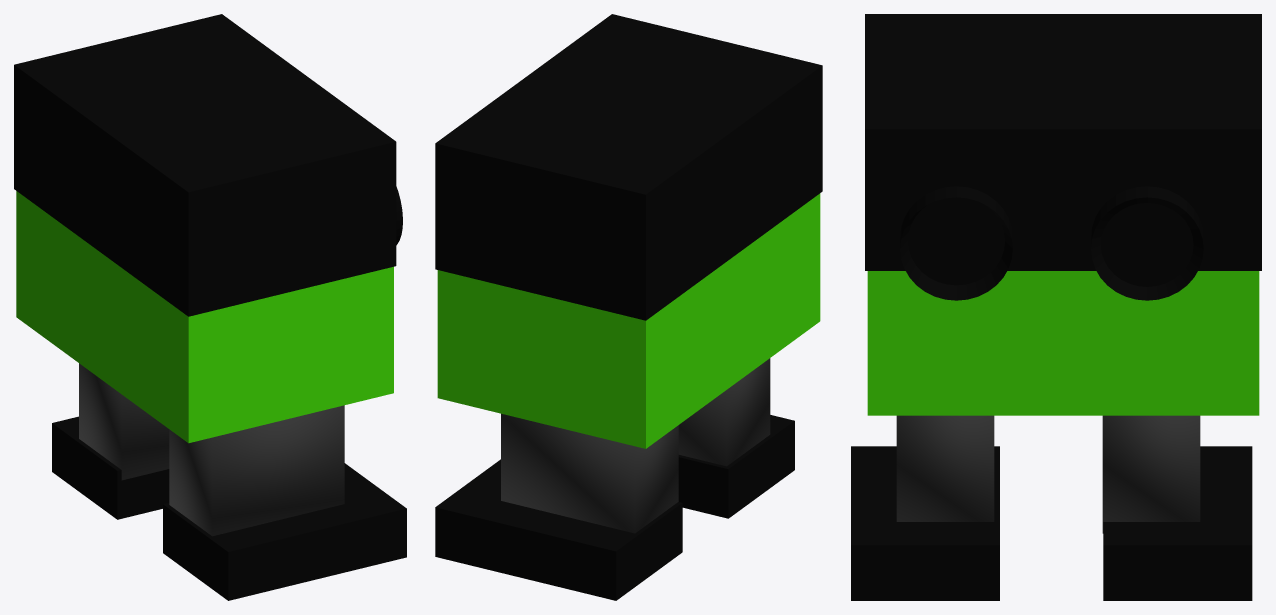
File: робобобот(1).glb
The picture shows the model from 3 angles, left to right: view 1: azimuth 30°, elevation 25°; view 2: azimuth 150°, elevation 25°; view 3: azimuth 270°, elevation 25°; orthographic projection. The views are drawn at different scales.
Visible parts, largest first — view 1: Cylinder.001; view 2: Cylinder.001; view 3: Cylinder.001.
Boxes of the visible parts, x1,y1,x2,y2 form: Cylinder.001: (14, 14, 406, 600); Cylinder.001: (435, 14, 822, 600); Cylinder.001: (851, 14, 1261, 600).
Bounding box in the file's own units: 3.07 × 5.24 × 4.16.
